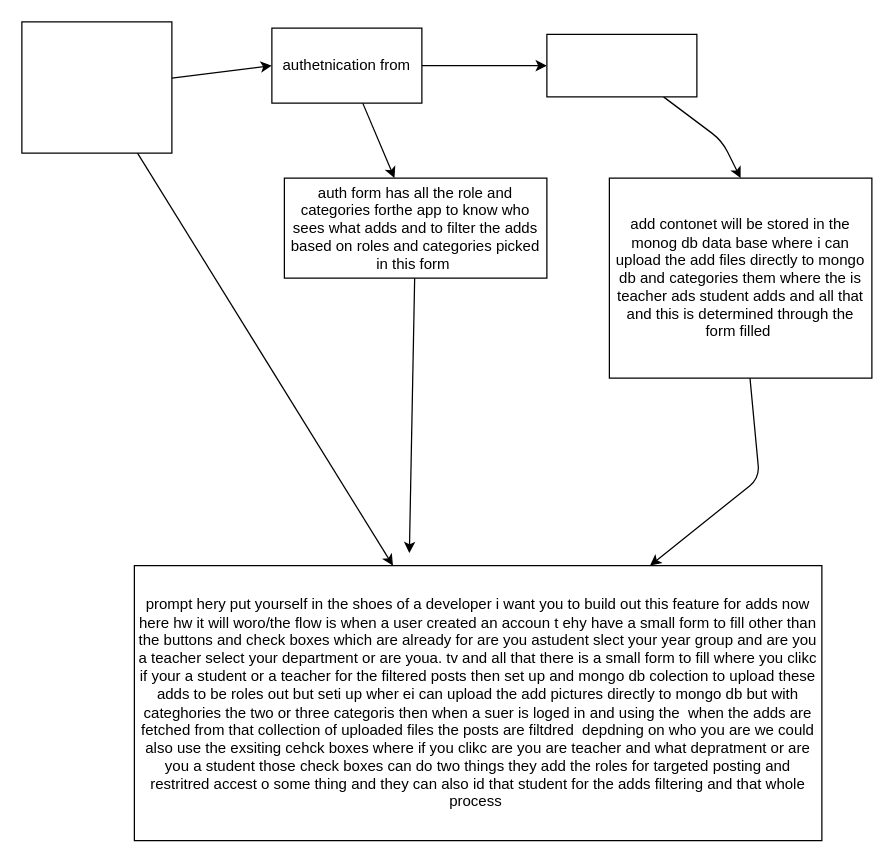
Image size: 894x863. Some labels were removed from this diagram. Here are the shapes that lost their labels. From the top down, the centre of each, then its label:
At point (621, 65): "addcontent storage".
At point (96, 87): "addbanner".
